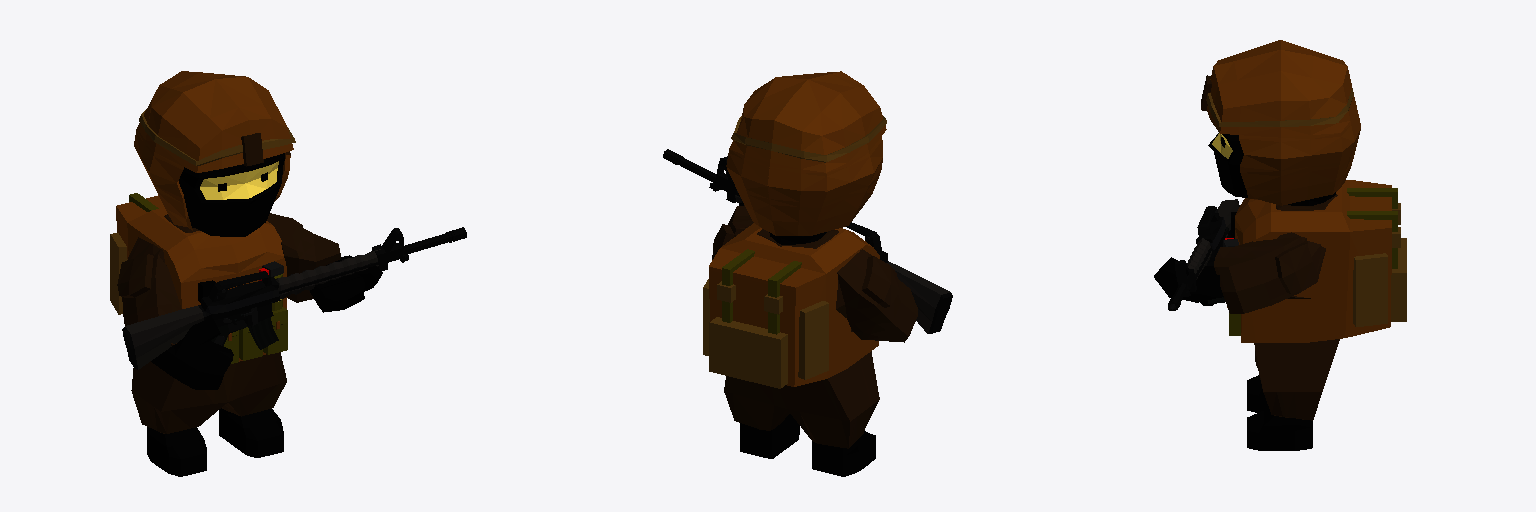
Rendered from green.obj.
3 views of the same model, side by side, from view 1: azimuth 30°, elevation 25°; view 2: azimuth 150°, elevation 25°; view 3: azimuth 270°, elevation 25° (orthographic).
Parts seen in each view (by area): view 1: Cylinder.014_Cylinder.001; view 2: Cylinder.014_Cylinder.001; view 3: Cylinder.014_Cylinder.001.
Boxes of the visible parts, x1,y1,x2,y2 form: Cylinder.014_Cylinder.001: [110, 71, 466, 476]; Cylinder.014_Cylinder.001: [663, 71, 952, 476]; Cylinder.014_Cylinder.001: [1154, 40, 1406, 450].
Bounding box in the file's own units: 0.7556 × 0.8612 × 0.5295.